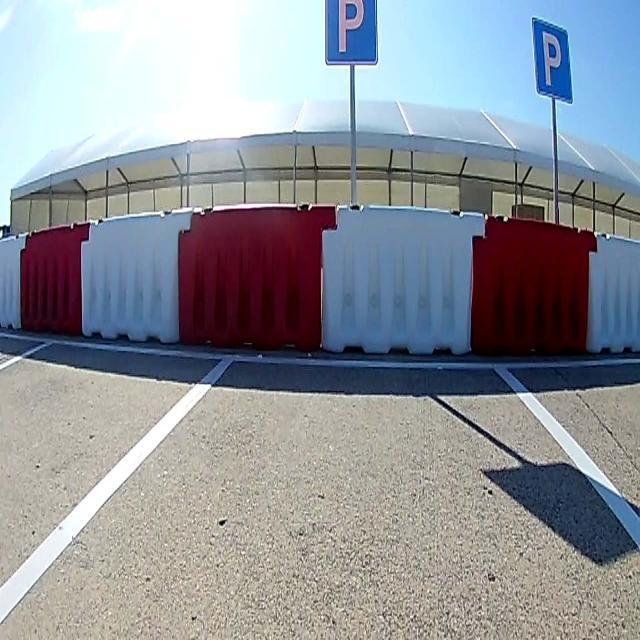park: (532, 17, 572, 102), (326, 1, 376, 64)
